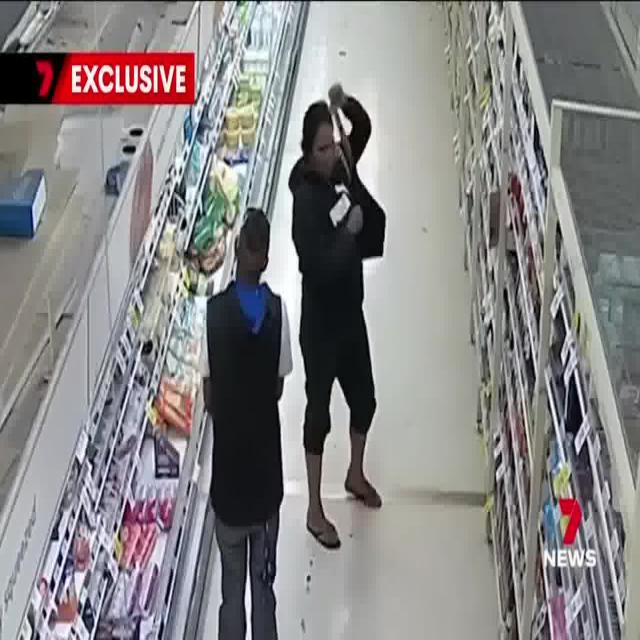persone: (293, 84, 409, 526)
